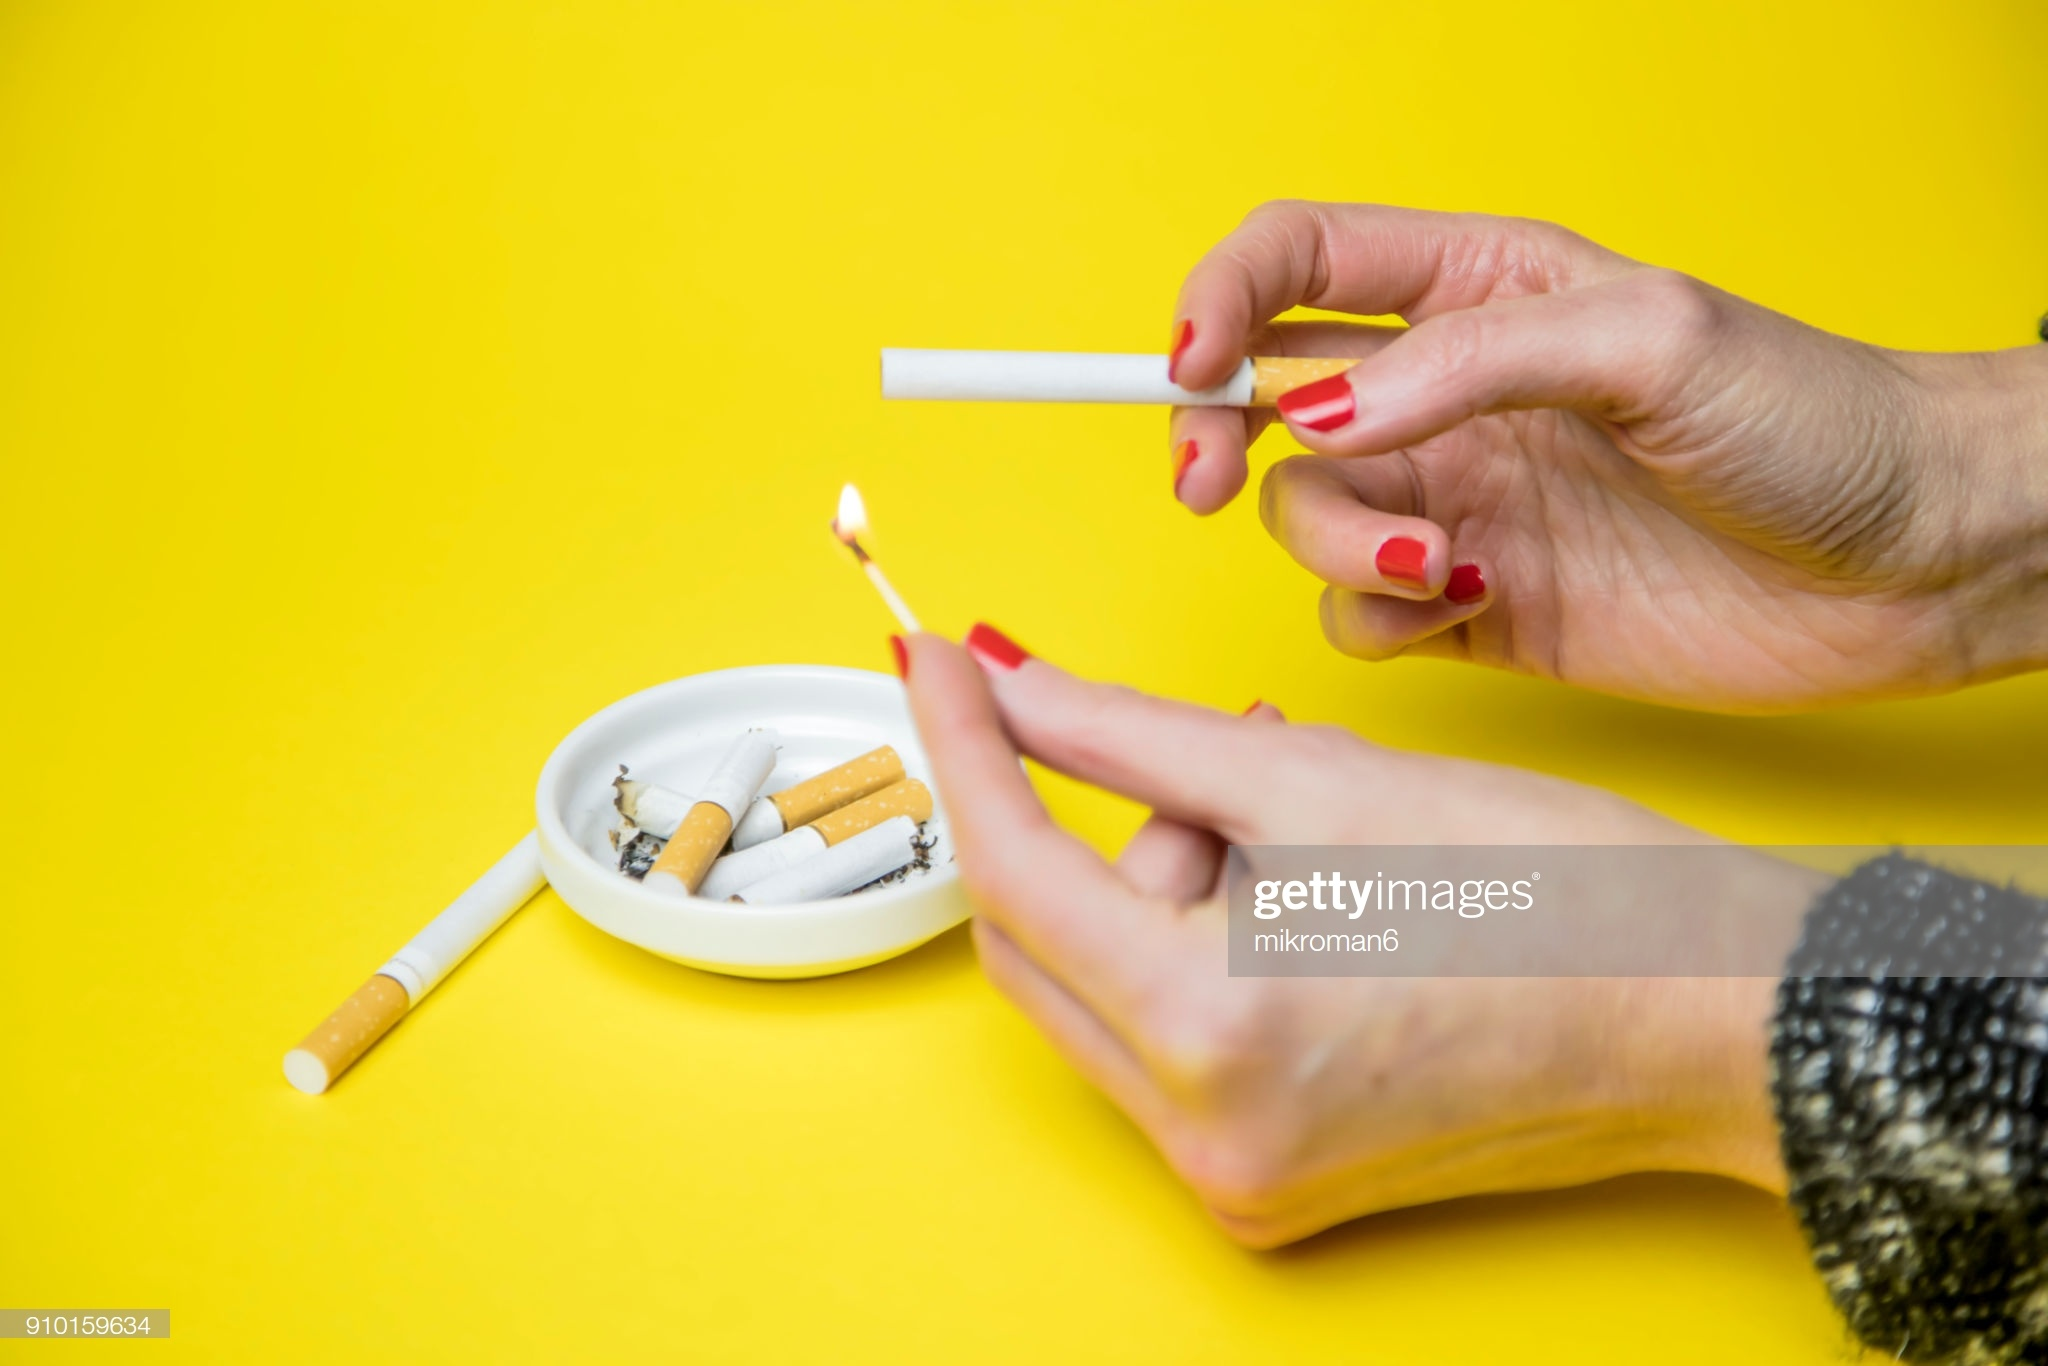sigaretta: (282, 803, 546, 1102), (891, 335, 1391, 415)
